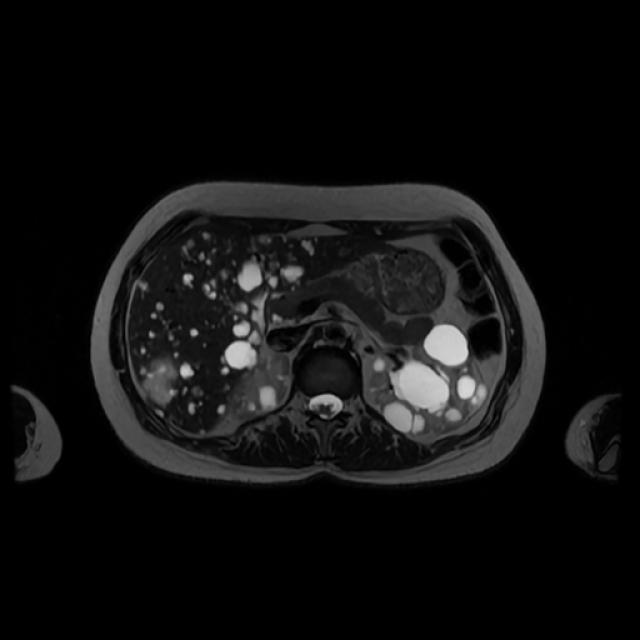sag: (228, 353, 291, 425)
sol: (367, 323, 489, 434)
